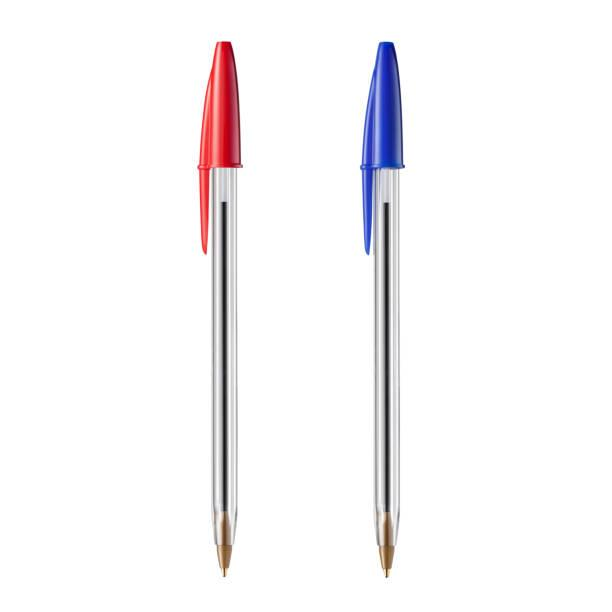Ballpen: (197, 41, 242, 576), (361, 39, 405, 577)
